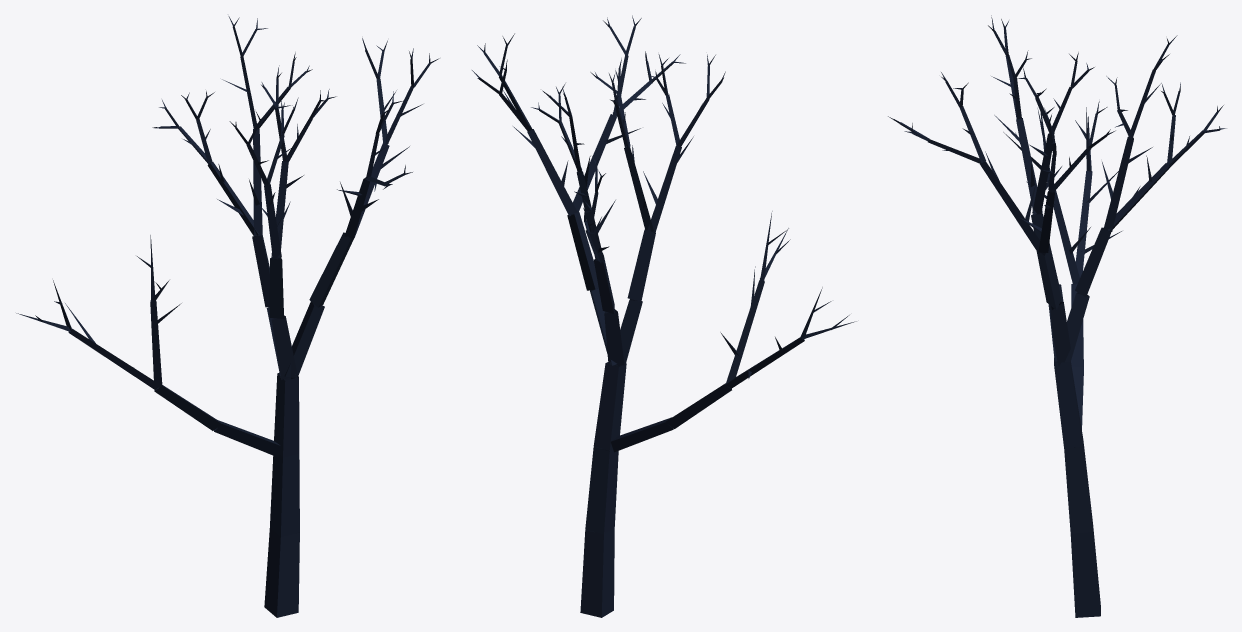
Rendered from tree_bare_a.glb.
The picture shows the model from 3 angles, left to right: view 1: azimuth 30°, elevation 25°; view 2: azimuth 150°, elevation 25°; view 3: azimuth 270°, elevation 25°; orthographic projection. The views are drawn at different scales.
Parts seen in each view (by area): view 1: Tree_Bare_A; view 2: Tree_Bare_A; view 3: Tree_Bare_A.
Boxes of the visible parts, x1,y1,x2,y2 form: Tree_Bare_A: (16,16,439,617); Tree_Bare_A: (472,15,856,617); Tree_Bare_A: (888,15,1226,617).
Size of the model in its own units: 7.96 by 10.55 by 5.67.
